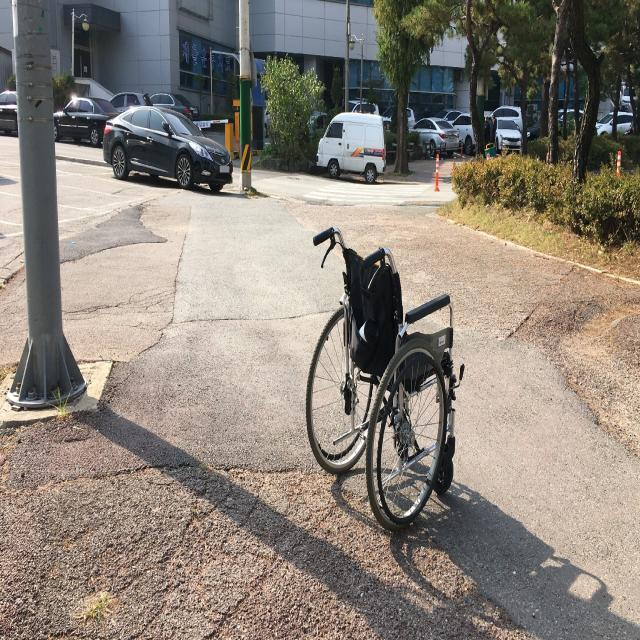횡단보도: (302, 182, 434, 203)
